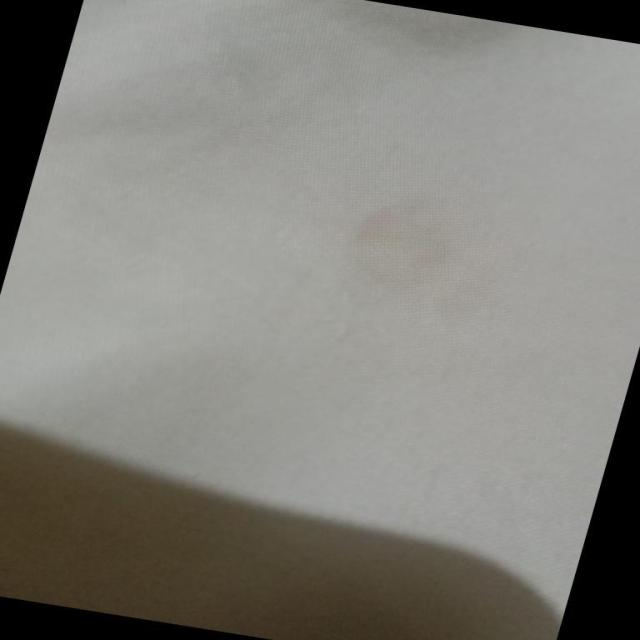stain: (310, 170, 492, 322)
